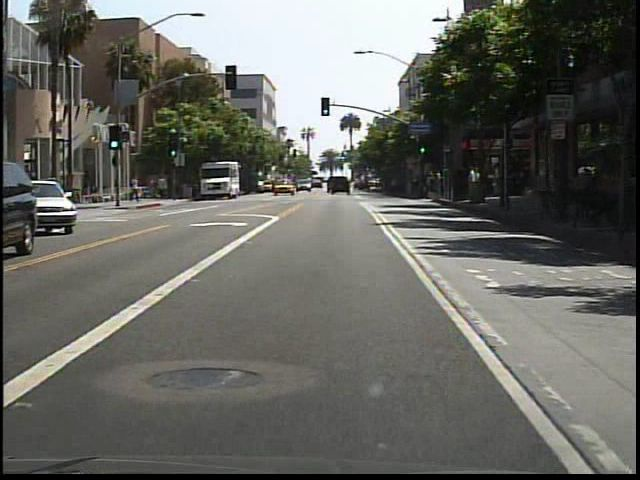person: (130, 172, 143, 204), (157, 173, 170, 201), (149, 176, 161, 200)
